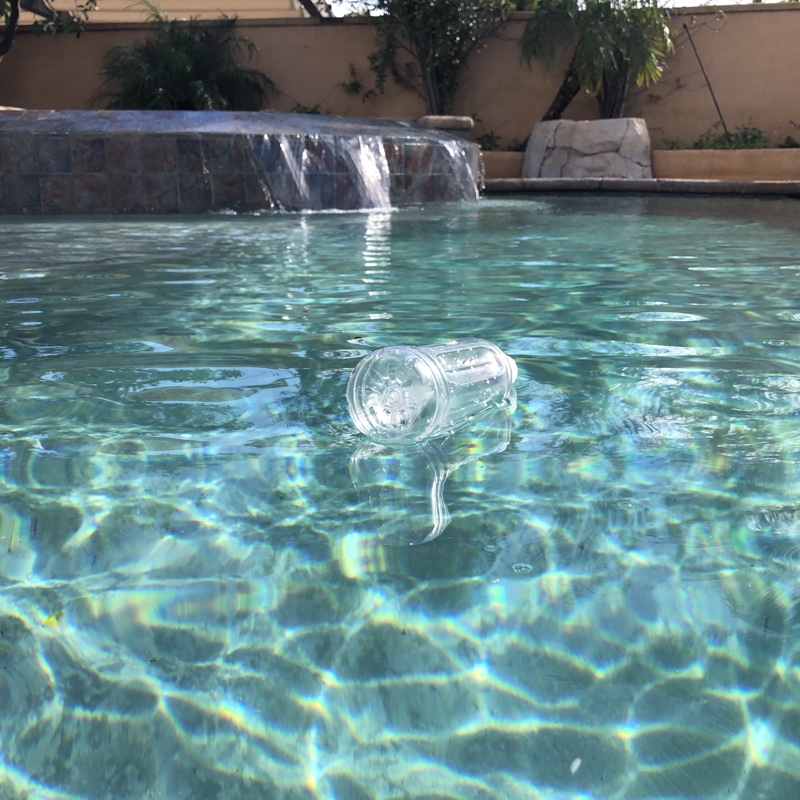Plastic Bottle: (343, 335, 520, 447)
